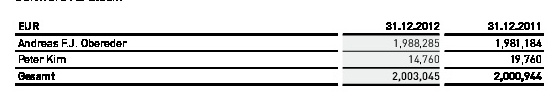table: (0, 0, 558, 100)
